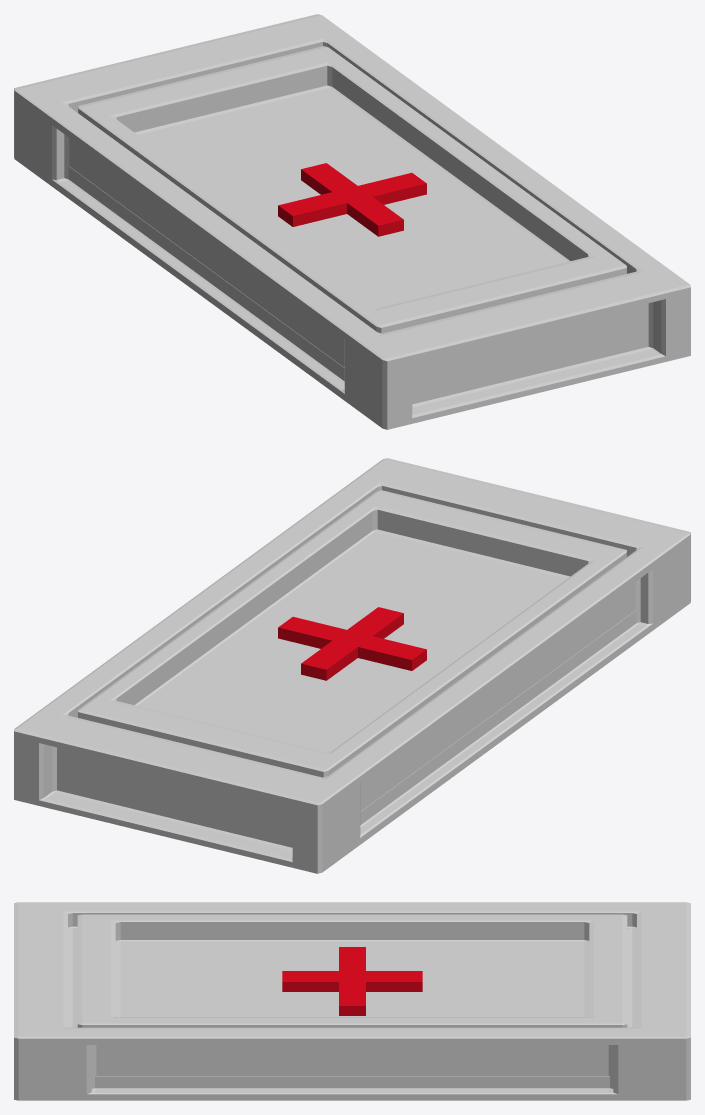
File: HealthPickup.fbx
3 renders of one model, top to bottom at view 1: azimuth 30°, elevation 25°; view 2: azimuth 150°, elevation 25°; view 3: azimuth 270°, elevation 25°, orthographic. The views are drawn at different scales.
Parts seen in each view (by area): view 1: Cube, Cube.002; view 2: Cube, Cube.002; view 3: Cube, Cube.002.
Part boxes in pixels (x1,y1,x2,y2): Cube: (14, 14, 690, 429); Cube.002: (278, 163, 426, 236); Cube: (14, 458, 690, 873); Cube.002: (278, 607, 426, 680); Cube: (14, 902, 690, 1100); Cube.002: (282, 947, 422, 1015).
Bounding box in the file's own units: 303 × 66.13 × 637.
